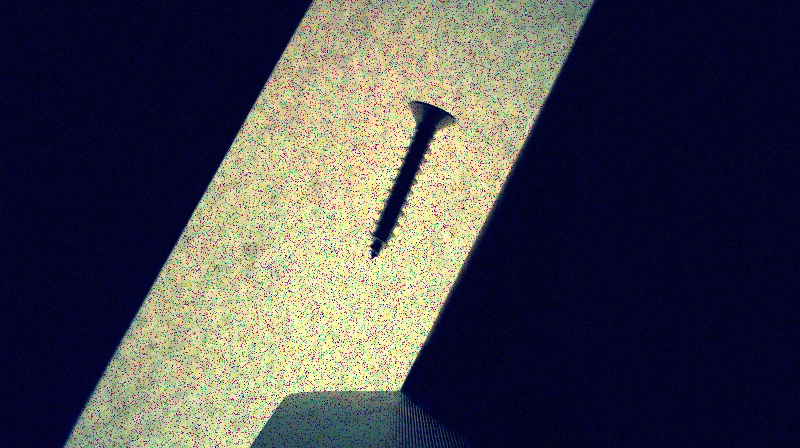S001: (366, 97, 458, 261)
